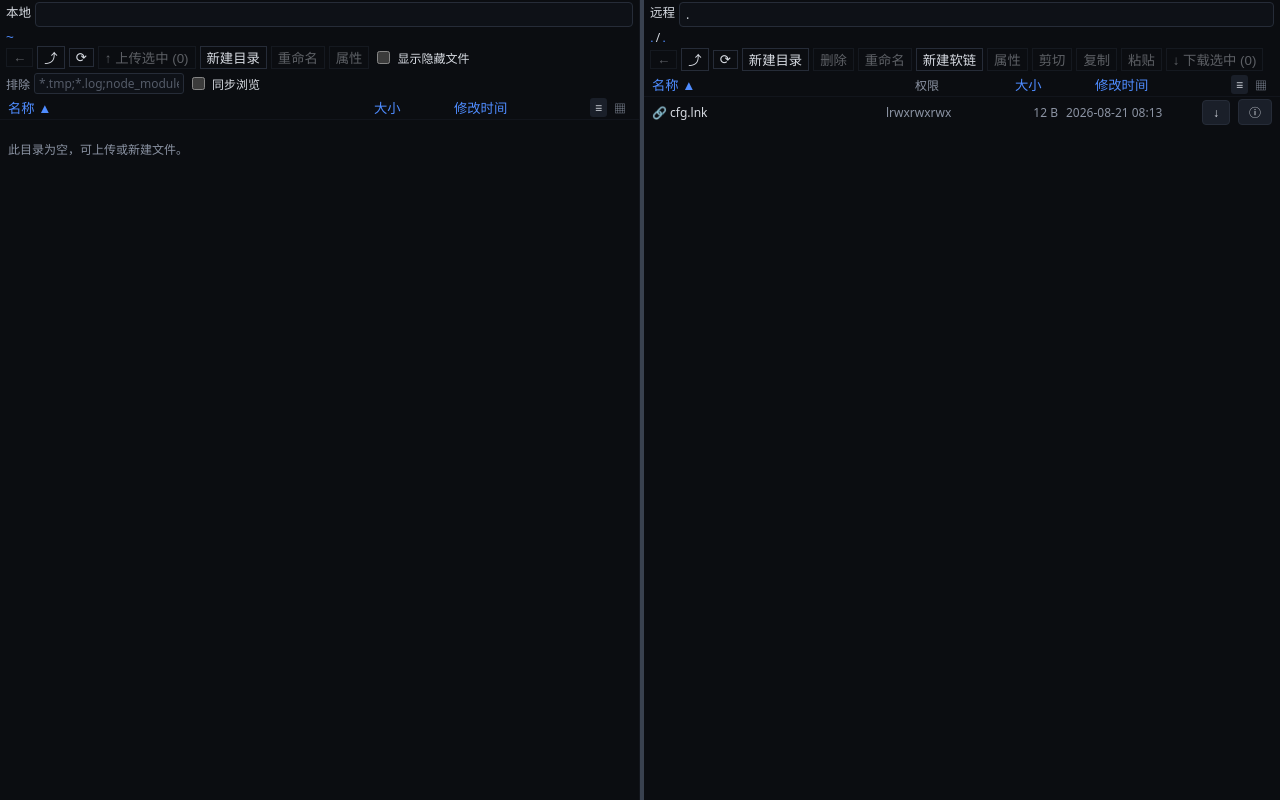
Test case: SftpPane 属性对话框与新建软链（M4a） › 断链：显示「目标不可访问」而不是错误框，链自身属性照旧呈现
Click the option at (680, 112), box [644,97,1279,127]
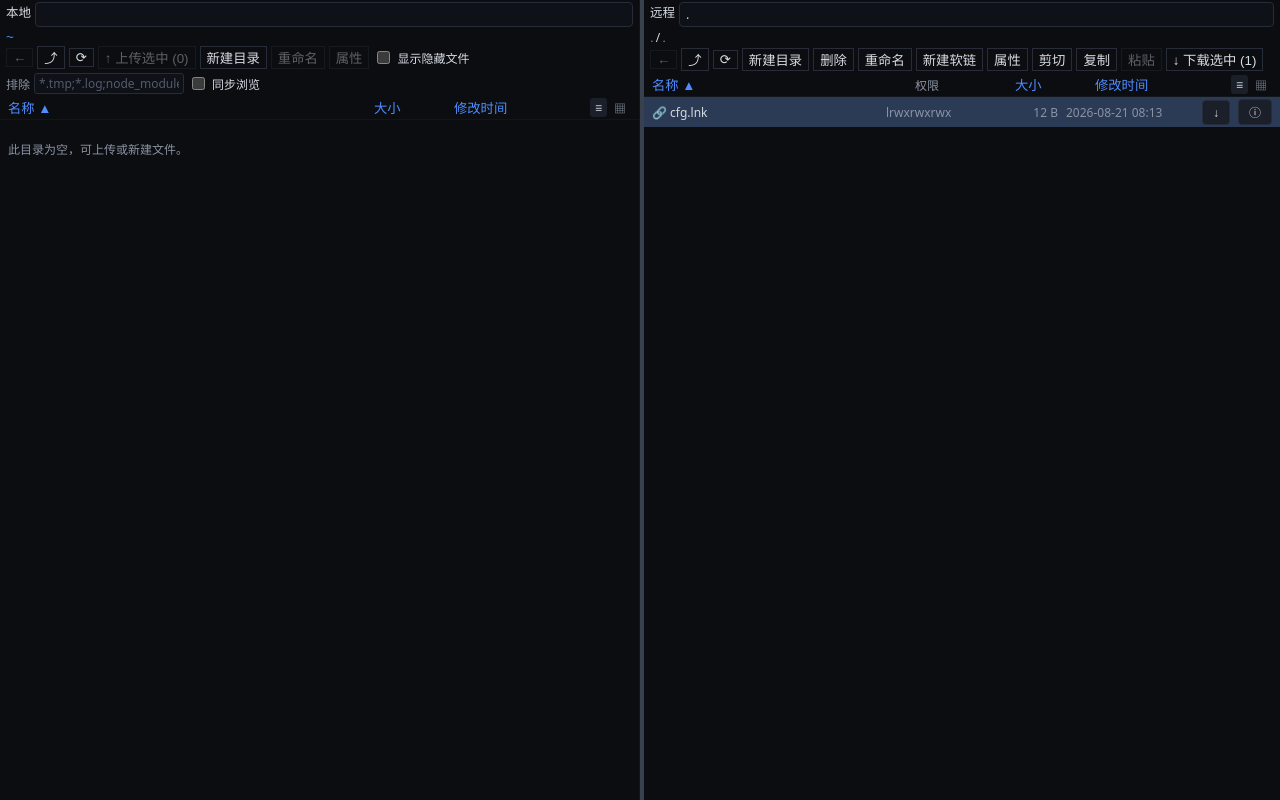
Click the button with test id "remote-props" at (1007, 60), box [987,48,1028,71]
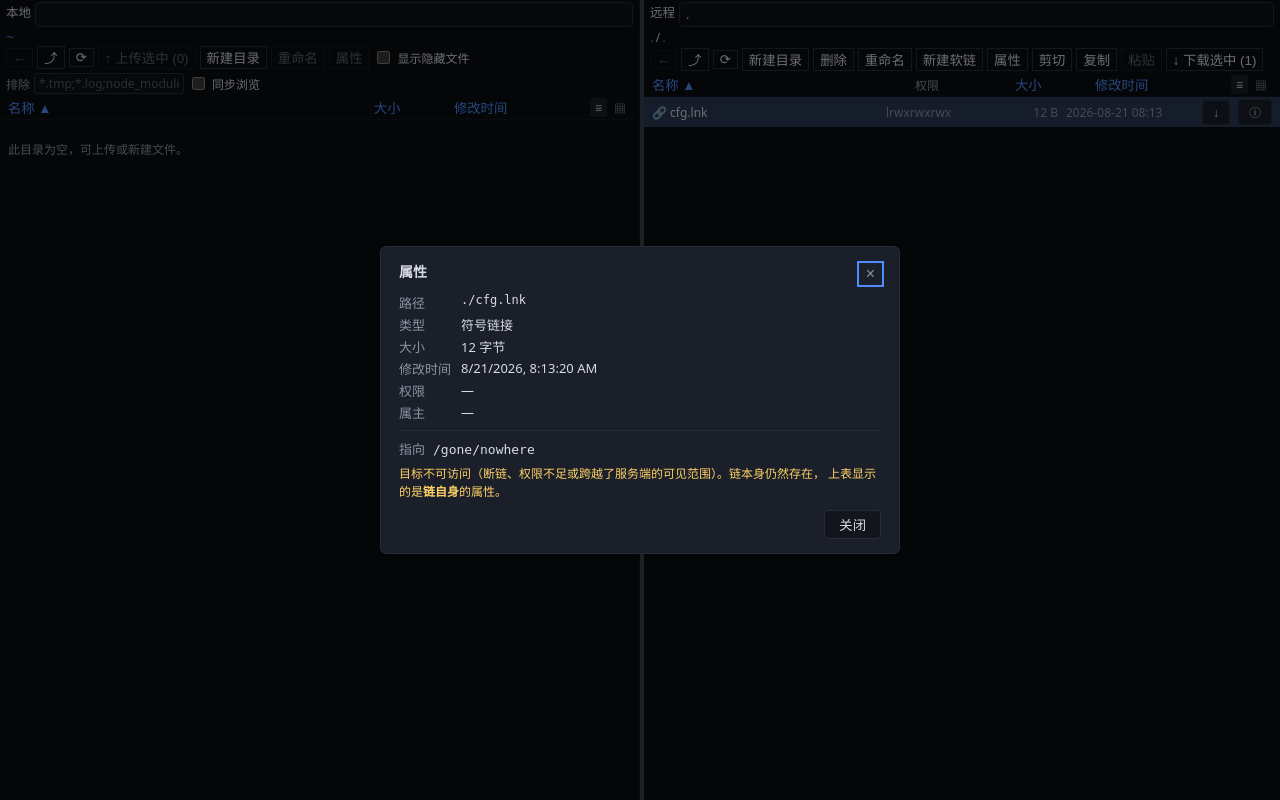
Now the element with test id "props-broken" is shown, box [399,464,881,500]
Now the text with test id "props-mode" reads "—", box [461,381,474,399]
Now the text with test id "props-owner" reads "—", box [461,403,474,421]
